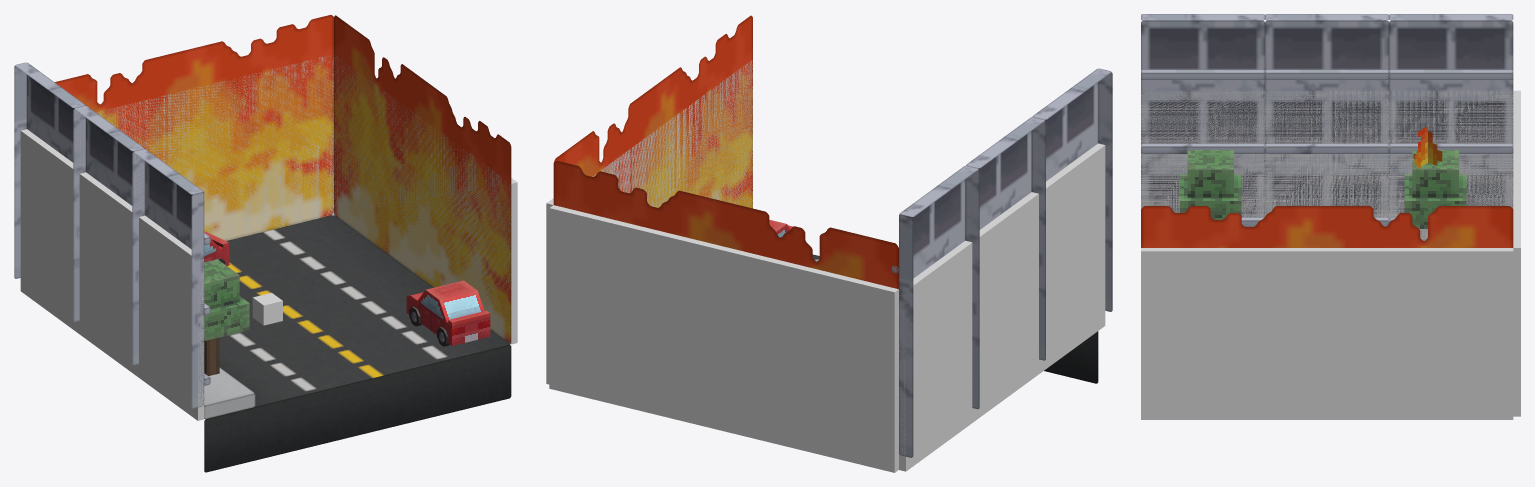
File: cornerr.fbx
3 renders of one model, left to right at view 1: azimuth 30°, elevation 25°; view 2: azimuth 150°, elevation 25°; view 3: azimuth 270°, elevation 25°, orthographic. The views are drawn at different scales.
Parts seen in each view (by area): view 1: floormain, cube_4, cube_3, cube_6, cube_7, cube_8, building_3, building, building_2, carmain_2, tree, cube_5 (+1 smaller); view 2: cube_8, cube_6, cube_3, cube_4, cube_7, building, building_3, building_2, floormain; view 3: cube_7, cube_6, building_2, building_3, building, cube_3, tree, tree_1, builing-ledges_1, builing-ledges_2, cube_8, builing-ledges (+1 smaller).
Part boxes in pixels (left/top/right/bottom): floormain: left=204, top=215, right=511, bottom=472; cube_4: left=55, top=15, right=333, bottom=240; cube_3: left=334, top=15, right=511, bottom=342; cube_6: left=20, top=129, right=204, bottom=420; cube_7: left=334, top=57, right=517, bottom=344; cube_8: left=96, top=54, right=333, bottom=240; building_3: left=132, top=149, right=204, bottom=408; building: left=14, top=62, right=85, bottom=321; building_2: left=73, top=105, right=145, bottom=365; carmain_2: left=406, top=280, right=490, bottom=345; tree: left=204, top=259, right=249, bottom=375; cube_5: left=252, top=293, right=282, bottom=325; cube_8: left=549, top=205, right=898, bottom=472; cube_6: left=899, top=143, right=1105, bottom=471; cube_3: left=554, top=15, right=752, bottom=208; cube_4: left=553, top=161, right=898, bottom=289; cube_7: left=546, top=60, right=752, bottom=384; building: left=899, top=166, right=979, bottom=457; building_3: left=1031, top=68, right=1112, bottom=360; building_2: left=965, top=117, right=1045, bottom=408; floormain: left=812, top=254, right=1098, bottom=383; cube_7: left=1141, top=248, right=1513, bottom=419; cube_6: left=1141, top=90, right=1513, bottom=240; building_2: left=1265, top=14, right=1388, bottom=217; building_3: left=1141, top=14, right=1264, bottom=217; building: left=1389, top=14, right=1513, bottom=240; cube_3: left=1141, top=206, right=1513, bottom=247; tree: left=1179, top=150, right=1241, bottom=219; tree_1: left=1404, top=150, right=1466, bottom=228; builing-ledges_1: left=1265, top=69, right=1388, bottom=226; builing-ledges_2: left=1141, top=69, right=1264, bottom=226; cube_8: left=1513, top=90, right=1520, bottom=416; builing-ledges: left=1389, top=69, right=1513, bottom=223.
Size of the model in its own units: 319 by 262 by 306.
6 materials, 6 textured.
